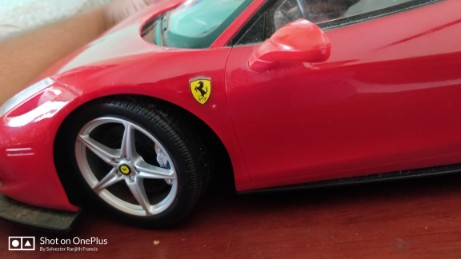unaligned_wheel: (47, 94, 232, 229)
